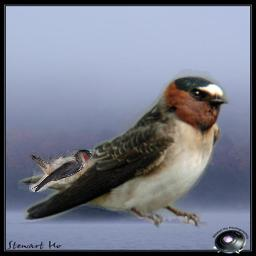Swallow: (18, 69, 237, 230), (29, 149, 96, 192)
